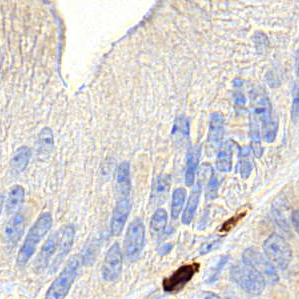Lymphocyte: (163, 264, 199, 293)
